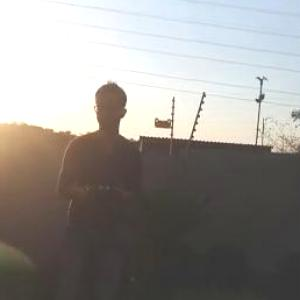follow: (47, 73, 144, 299)
